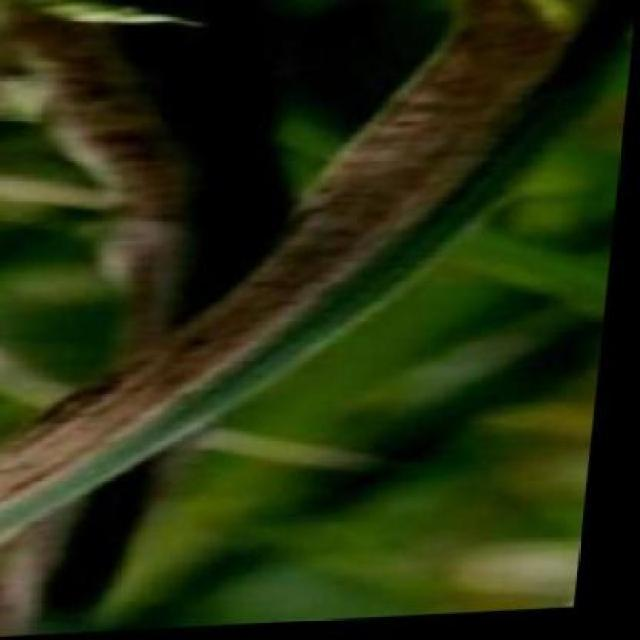Brown_Spot: (1, 245, 288, 540), (322, 0, 601, 297), (0, 1, 243, 238)
